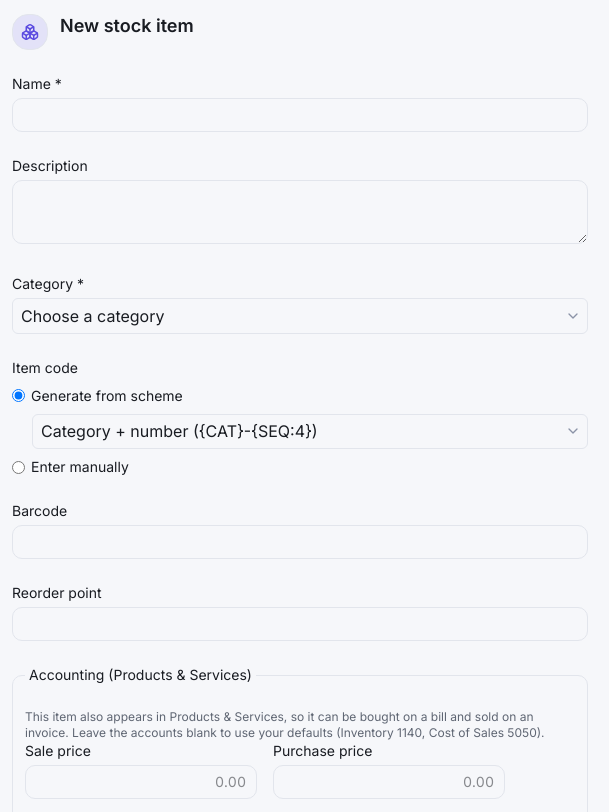
Test: InventoryNewItemPage › shows the live generated-code preview
Select "Residential units" in the dropdown labelled "Category *" at point(300, 316), box [12, 298, 588, 334]
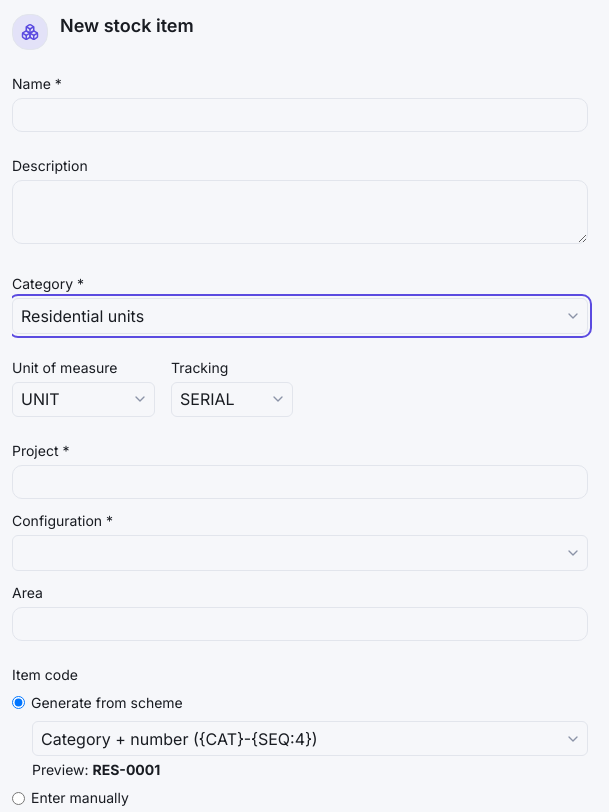
Result: the text "RES-0001" is shown at [92, 761, 160, 778]
